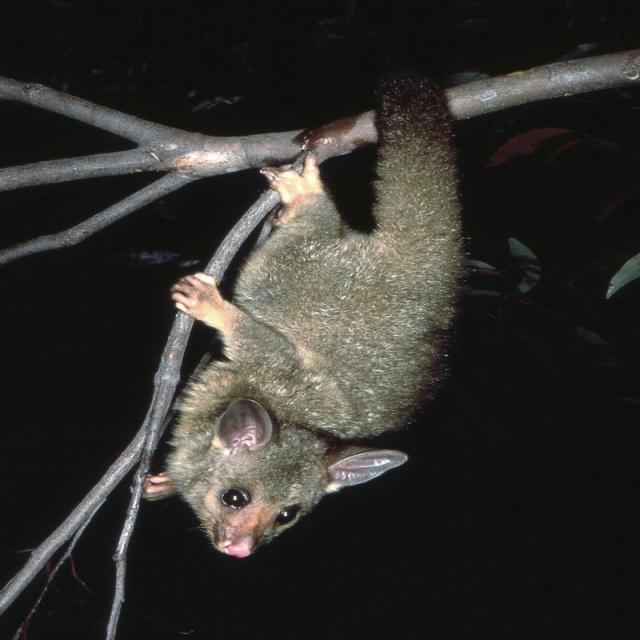possum: (142, 75, 465, 558)
